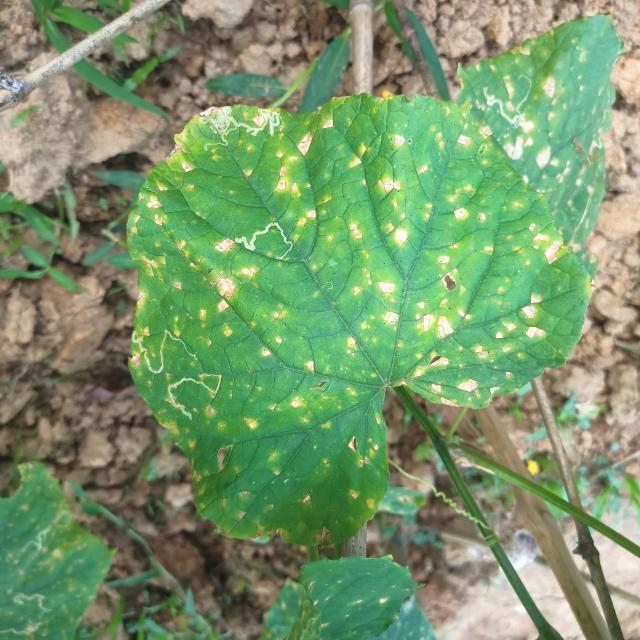disease_cucumber: (142, 112, 560, 522), (479, 37, 617, 228)
